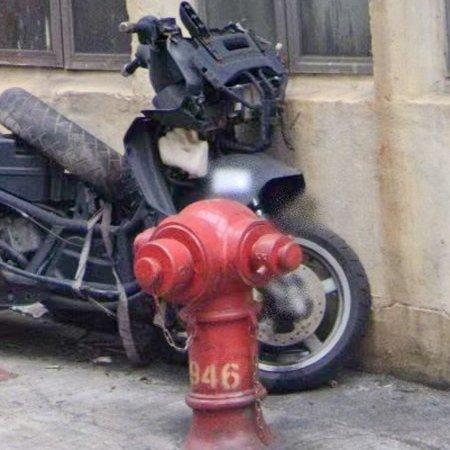a fire hydrant: (135, 202, 303, 450)
